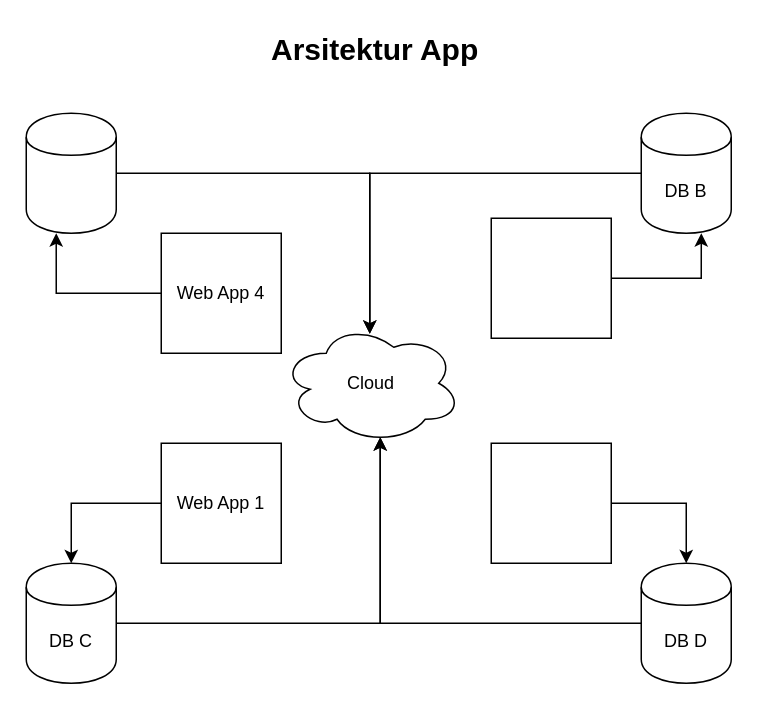
Some shapes in this 758 by 710 pixel diagram are drawn without their labels. The centre of each missing label's shape, as x and y in pixels:
"DB A" belongs at point (70, 172).
"Web App 2" belongs at point (550, 502).
"Web App 3" belongs at point (550, 277).
